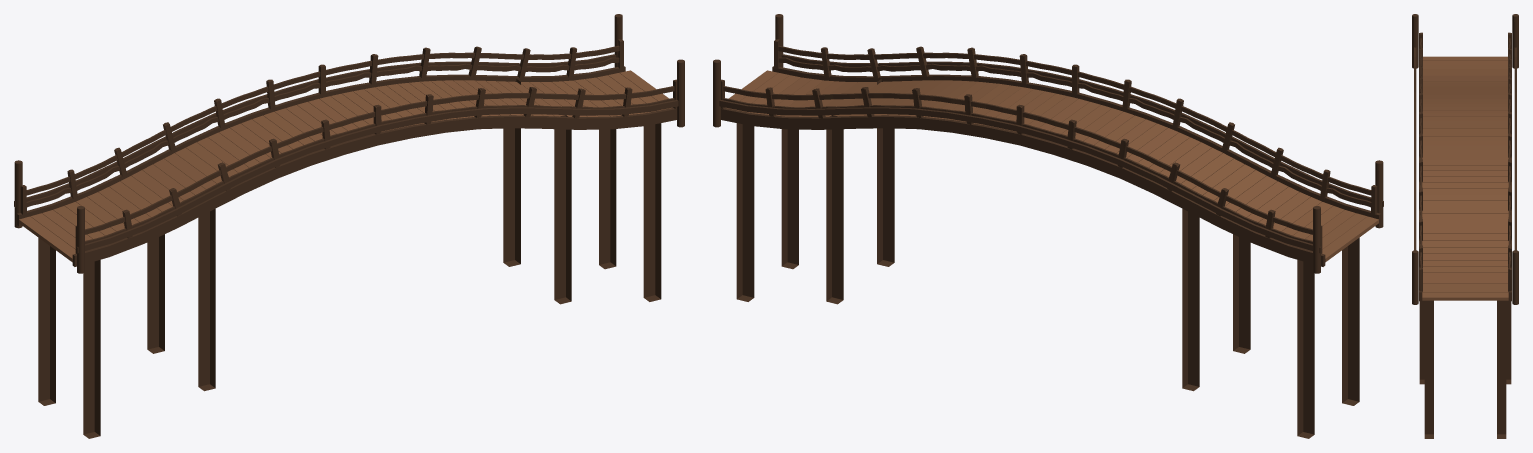
The model's file is Bridge_01_testExport.fbx.
3 renders of one model, left to right at view 1: azimuth 30°, elevation 25°; view 2: azimuth 150°, elevation 25°; view 3: azimuth 270°, elevation 25°, orthographic. The views are drawn at different scales.
Visible parts, largest first — view 1: boardCurved; view 2: boardCurved; view 3: boardCurved.
Part boxes in pixels (bbox=[...]): boardCurved: bbox=[14, 14, 684, 438]; boardCurved: bbox=[713, 14, 1383, 438]; boardCurved: bbox=[1412, 14, 1518, 438].
Size of the model in its own units: 2284 by 945 by 428.
